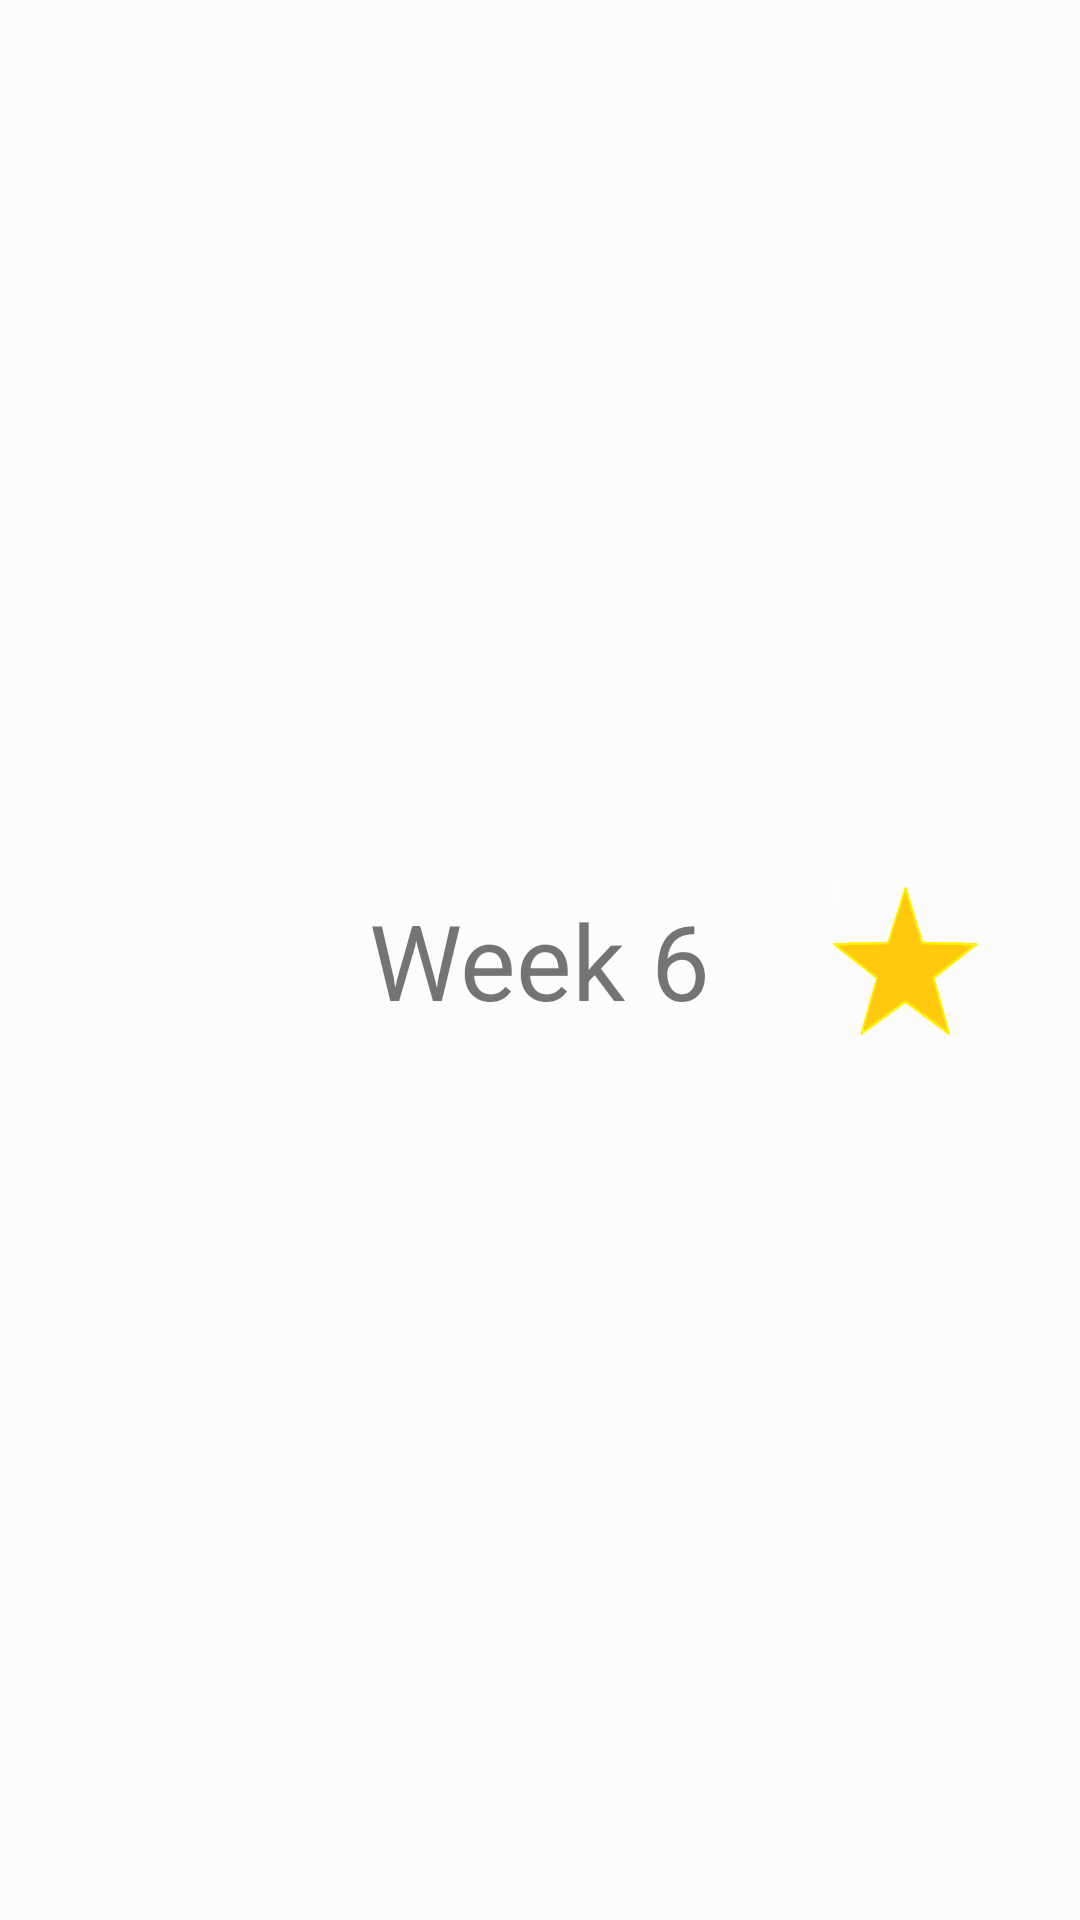

Where icons sit on this 1080w x 1920h app screen, as (x1, y1, x2, y2):
star: (833, 886, 978, 1035)
